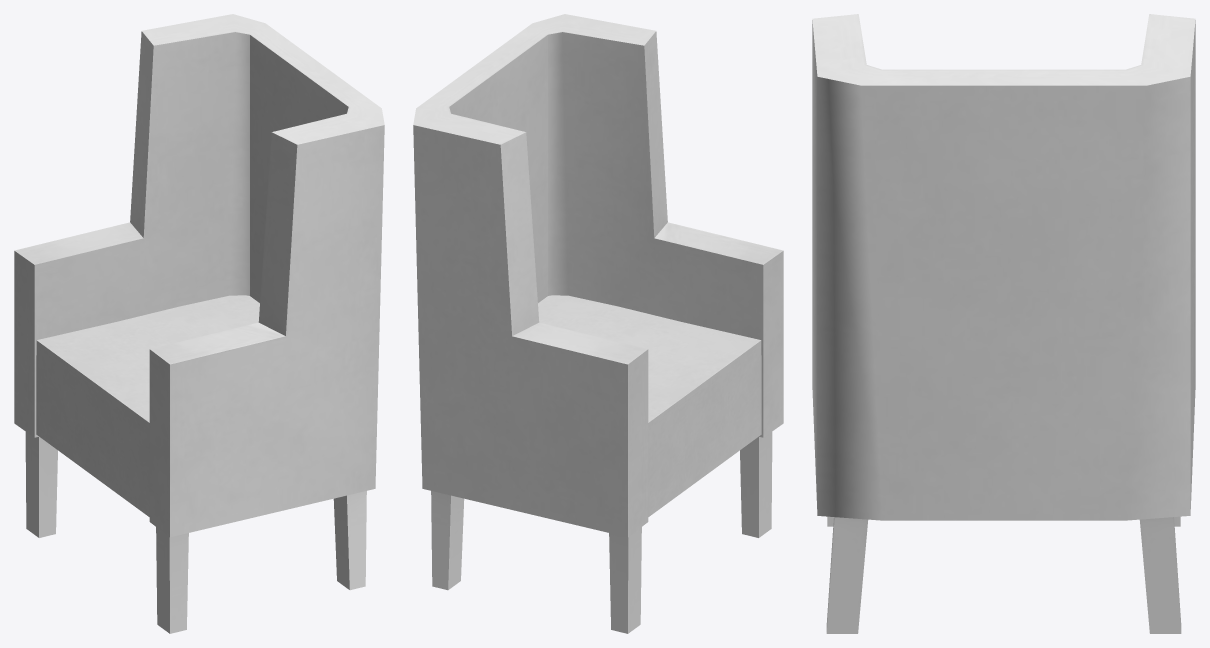
Rendered from Chair01.fbx.
3 renders of one model, left to right at view 1: azimuth 30°, elevation 25°; view 2: azimuth 150°, elevation 25°; view 3: azimuth 270°, elevation 25°, orthographic. The views are drawn at different scales.
Visible parts, largest first — view 1: Chair01; view 2: Chair01; view 3: Chair01.
Part boxes in pixels (bbox=[...]): Chair01: bbox=[14, 14, 384, 633]; Chair01: bbox=[413, 14, 783, 633]; Chair01: bbox=[812, 14, 1195, 633].
Bounding box in the file's own units: 6.54 × 12.54 × 7.62.
1 material, 1 textured.
